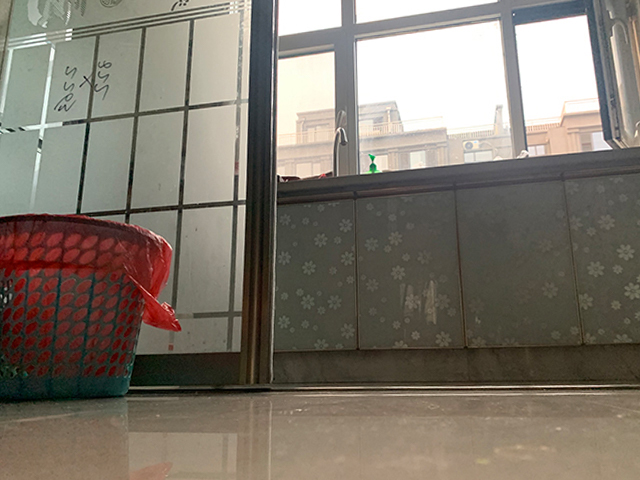cabinet: (274, 145, 640, 385)
trashcan: (1, 213, 170, 402)
